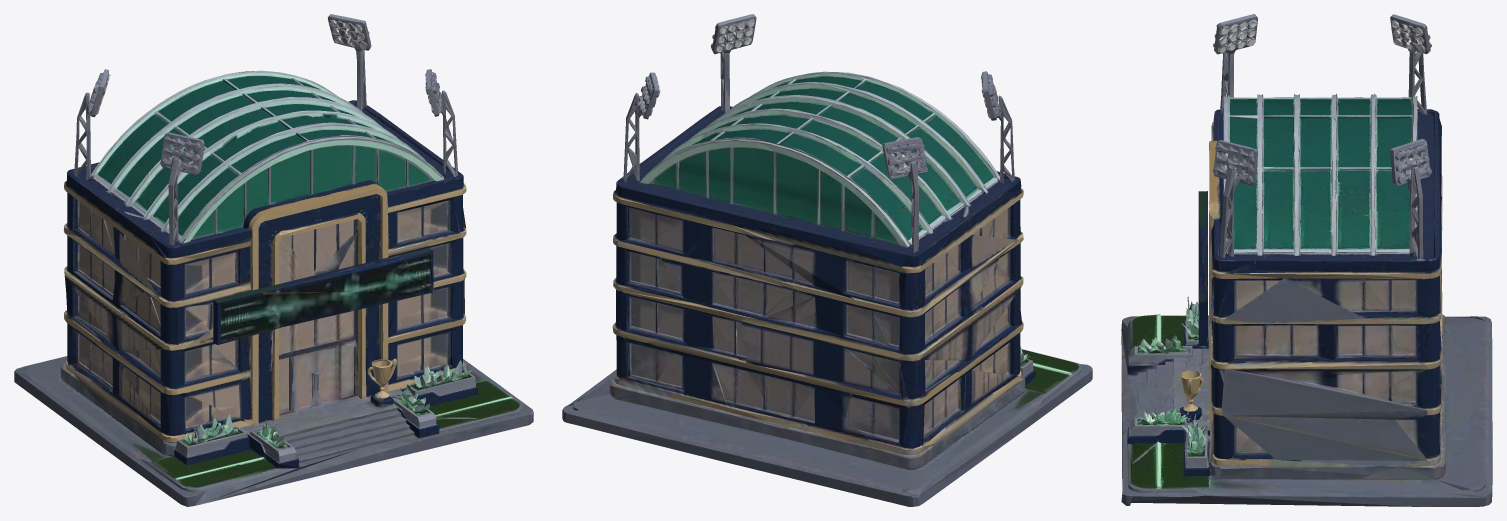
Rendered from bld-sports.glb.
The picture shows the model from 3 angles, left to right: view 1: azimuth 30°, elevation 25°; view 2: azimuth 150°, elevation 25°; view 3: azimuth 270°, elevation 25°; orthographic projection. The views are drawn at different scales.
Bounding box in the file's own units: 1.9 × 1.65 × 1.65.
1 material, 1 textured.
